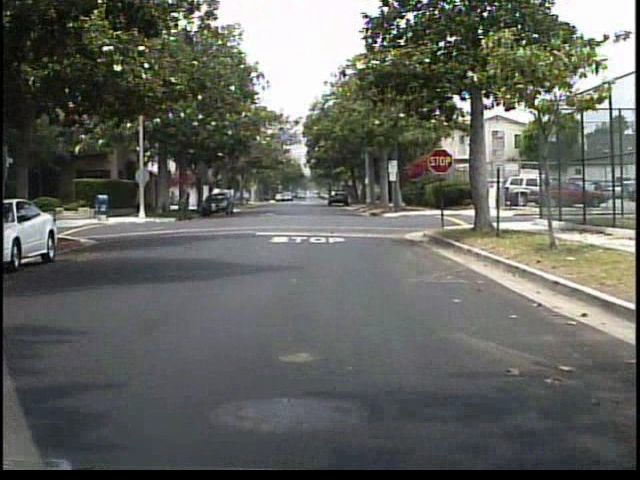person: (176, 180, 199, 224)
